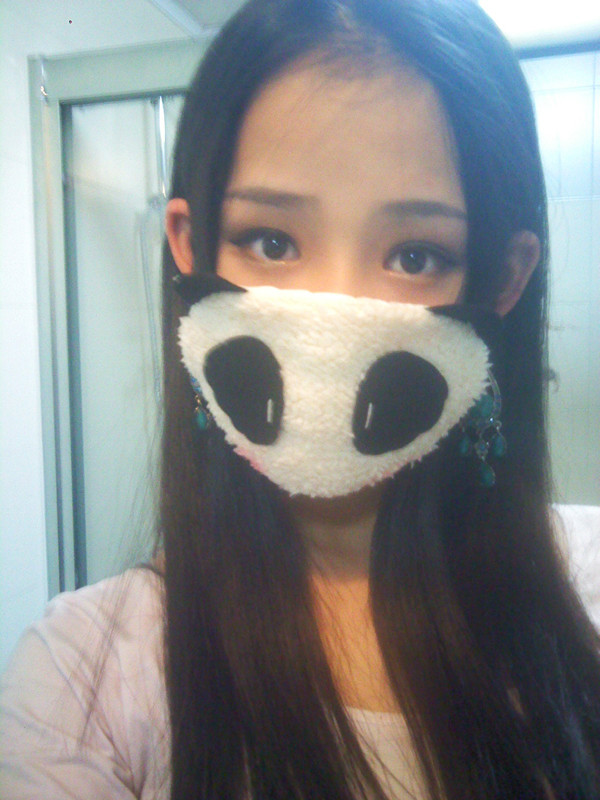face_mask: (202, 60, 477, 502)
